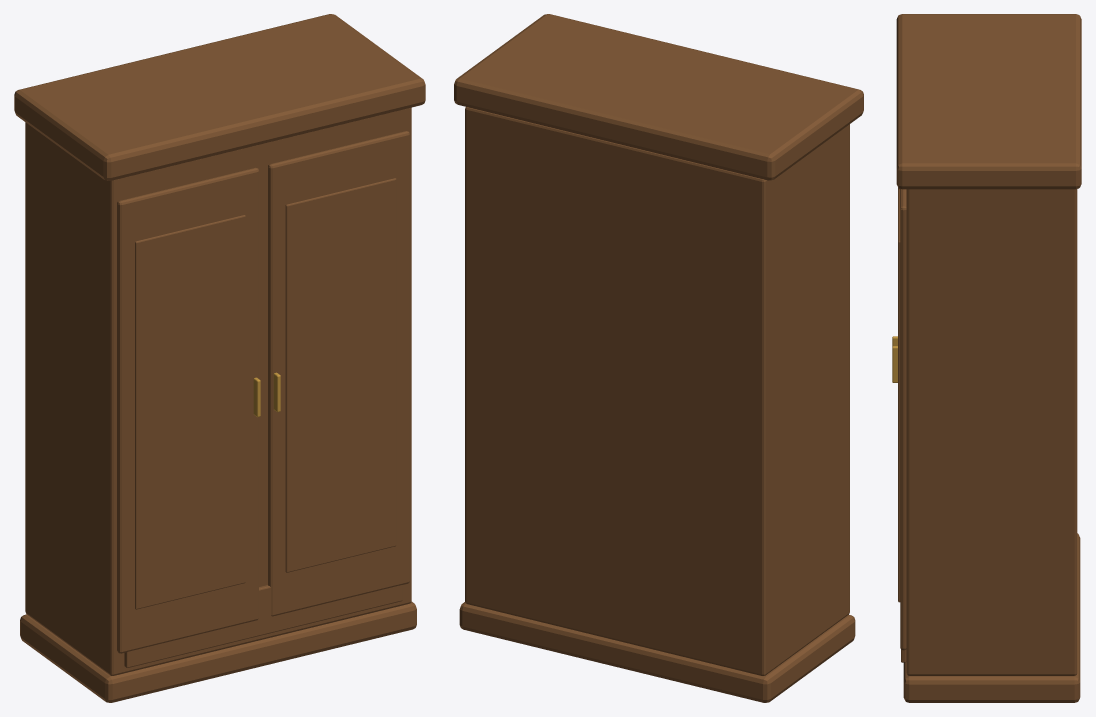
The model's file is wardrobe.glb.
3 renders of one model, left to right at view 1: azimuth 30°, elevation 25°; view 2: azimuth 150°, elevation 25°; view 3: azimuth 270°, elevation 25°, orthographic.
Visible parts, largest first — view 1: wardrobe; view 2: wardrobe; view 3: wardrobe.
Boxes of the visible parts, x1,y1,x2,y2 form: wardrobe: (14, 14, 425, 702); wardrobe: (454, 14, 863, 702); wardrobe: (892, 14, 1081, 702).
Bounding box in the file's own units: 1.28 × 2.1 × 0.665.
